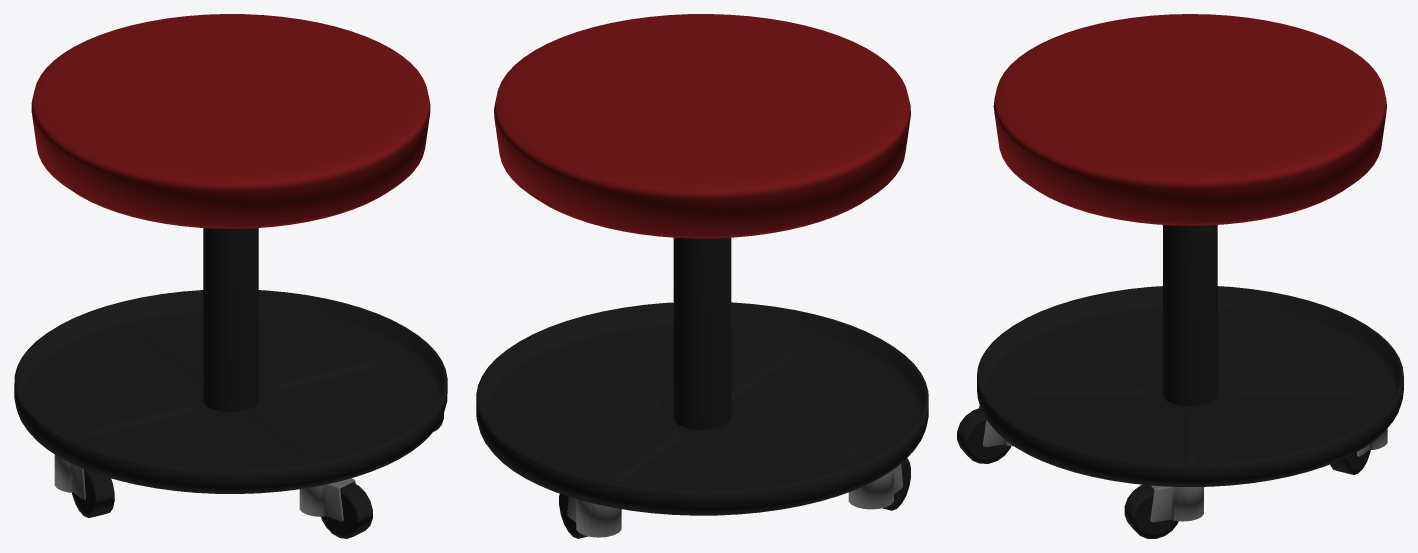
Rendered from SeanElstonCylinder028Final.fbx.
3 views of the same model, side by side, from view 1: azimuth 30°, elevation 25°; view 2: azimuth 150°, elevation 25°; view 3: azimuth 270°, elevation 25° (orthographic). The views are drawn at different scales.
Visible parts, largest first — view 1: Cylinder028; view 2: Cylinder028; view 3: Cylinder028.
Boxes of the visible parts, x1=… form: Cylinder028: x1=14, y1=14, x2=447, y2=538; Cylinder028: x1=476, y1=14, x2=928, y2=538; Cylinder028: x1=957, y1=14, x2=1403, y2=538.
Bounding box in the file's own units: 51.62 × 48.6 × 54.01.
